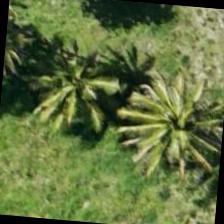Kelapa_Sawit: (36, 36, 134, 134), (122, 72, 220, 170), (116, 56, 214, 154), (47, 50, 145, 148)
